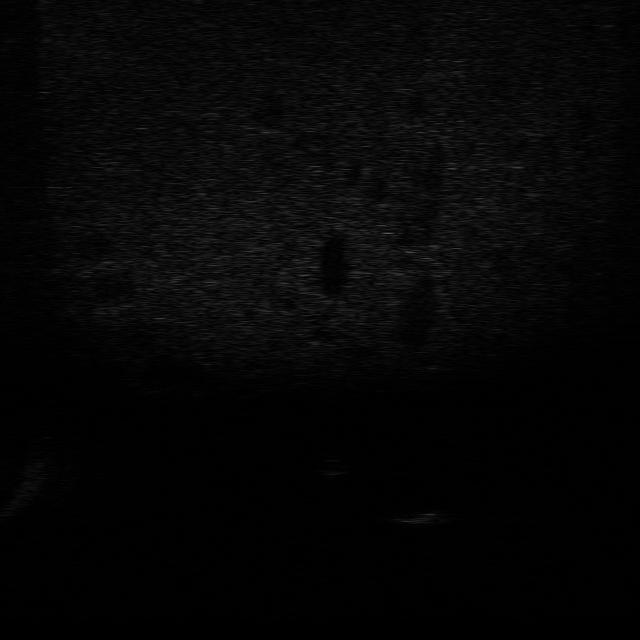ball: (306, 454, 356, 482)
square cage: (378, 501, 460, 535)
